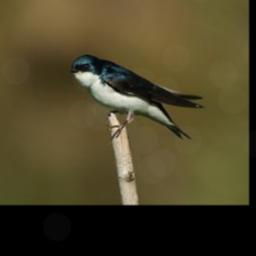Swallow: (67, 52, 206, 143)
